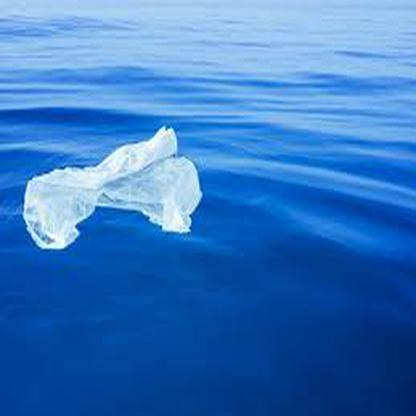plastic bag: (22, 124, 203, 248)
